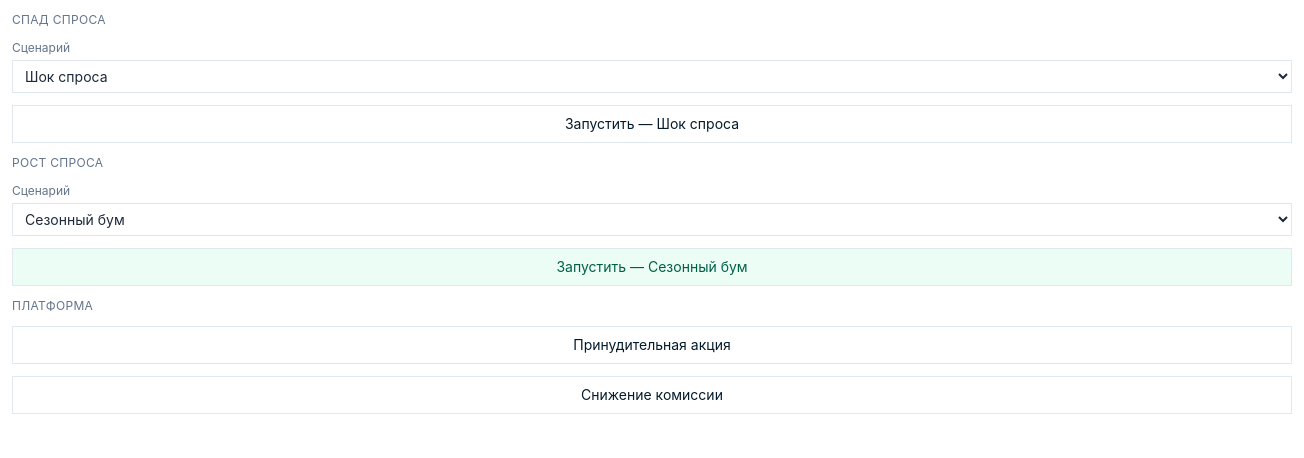
it: ShocksControlPanel › shows_queue_depth_message_on_boom_success
Click the button with test id "trigger-boom-btn": (652, 267) top-left (12, 248), bottom-right (1292, 286)
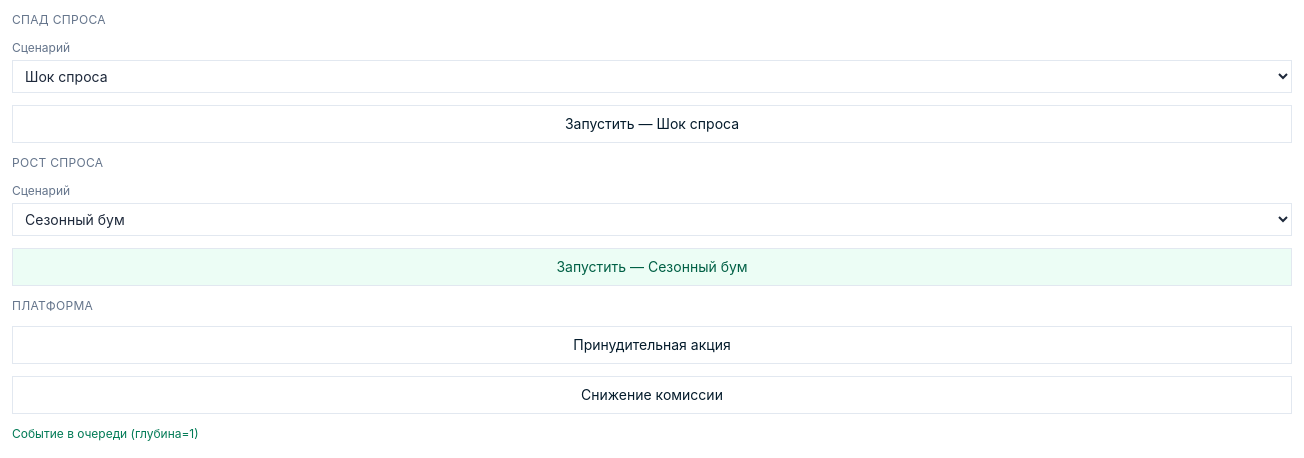
Check: the text "Событие в очереди (глубина=1)" is shown, box top-left (12, 426), bottom-right (199, 441)
